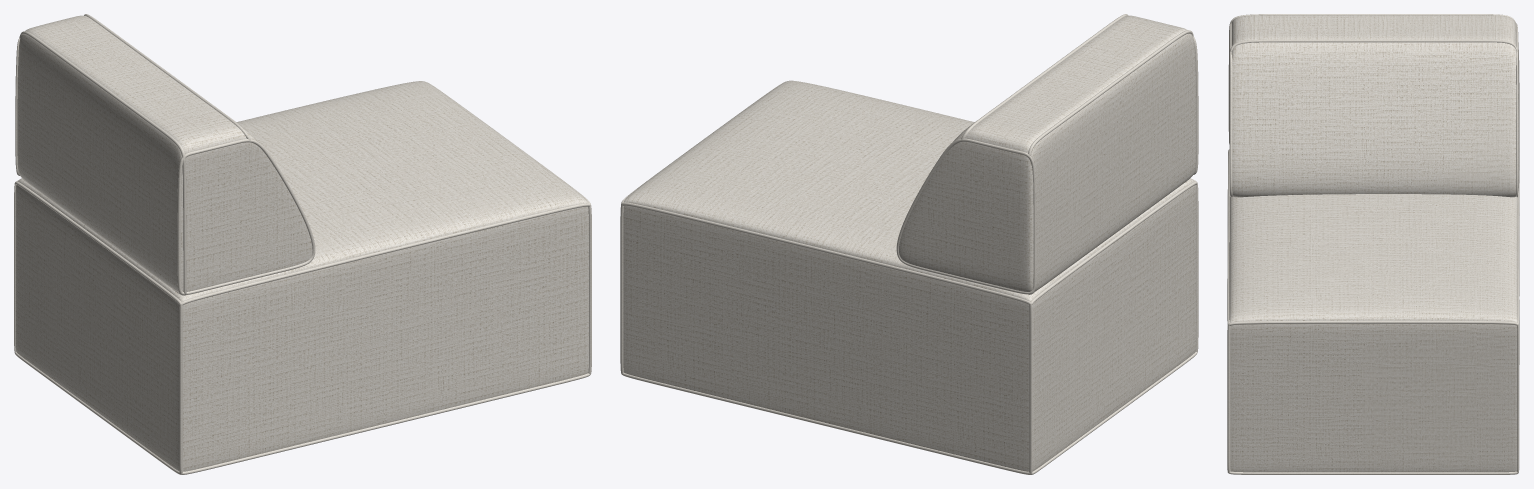
File: armless_1_seater_75_alpine_ivory.glb
3 renders of one model, left to right at view 1: azimuth 30°, elevation 25°; view 2: azimuth 150°, elevation 25°; view 3: azimuth 270°, elevation 25°, orthographic. The views are drawn at different scales.
Parts seen in each view (by area): view 1: Box093, Box097, Shape043, Shape039; view 2: Box093, Box097, Shape043, Shape039; view 3: Box093, Box097, Shape043, Shape039.
Boxes of the visible parts, <box> form: Box093: <box>15,81,588,471</box>; Box097: <box>17,15,312,292</box>; Shape043: <box>14,82,591,474</box>; Shape039: <box>15,14,315,295</box>; Box093: <box>623,80,1196,471</box>; Box097: <box>899,15,1196,291</box>; Shape043: <box>620,81,1198,474</box>; Shape039: <box>896,14,1198,294</box>; Box093: <box>1229,194,1519,472</box>; Box097: <box>1231,15,1519,197</box>; Shape043: <box>1227,149,1519,474</box>; Shape039: <box>1228,14,1518,197</box>.
Bounding box in the file's own units: 1.07 × 0.8369 × 0.7498.
2 materials, 2 textured.
